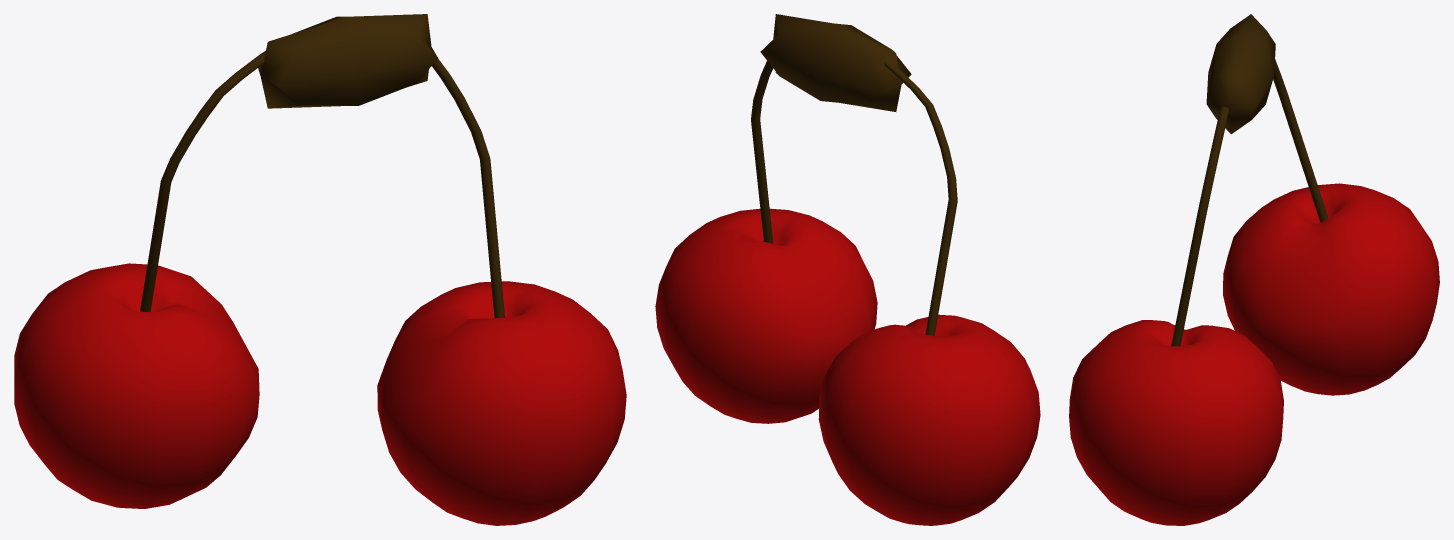
File: Cherry-fixed.fbx
The picture shows the model from 3 angles, left to right: view 1: azimuth 30°, elevation 25°; view 2: azimuth 150°, elevation 25°; view 3: azimuth 270°, elevation 25°; orthographic projection. The views are drawn at different scales.
Parts seen in each view (by area): view 1: cherry:pSphere3; view 2: cherry:pSphere3; view 3: cherry:pSphere3.
Part boxes in pixels (x1,y1,x2,y2): cherry:pSphere3: (14,14,626,525); cherry:pSphere3: (655,14,1040,525); cherry:pSphere3: (1069,14,1439,525).
Bounding box in the file's own units: 60.58 × 58.9 × 45.84.
